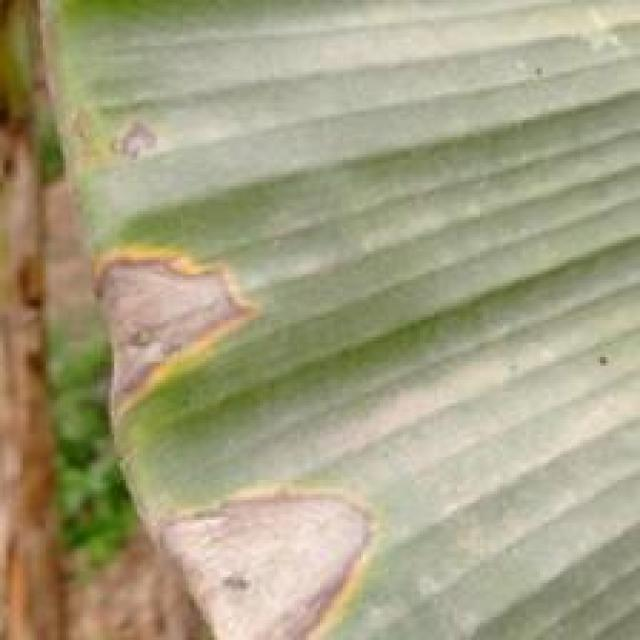Bacterial_spot: (145, 480, 375, 640), (86, 224, 260, 427), (70, 106, 166, 160)
